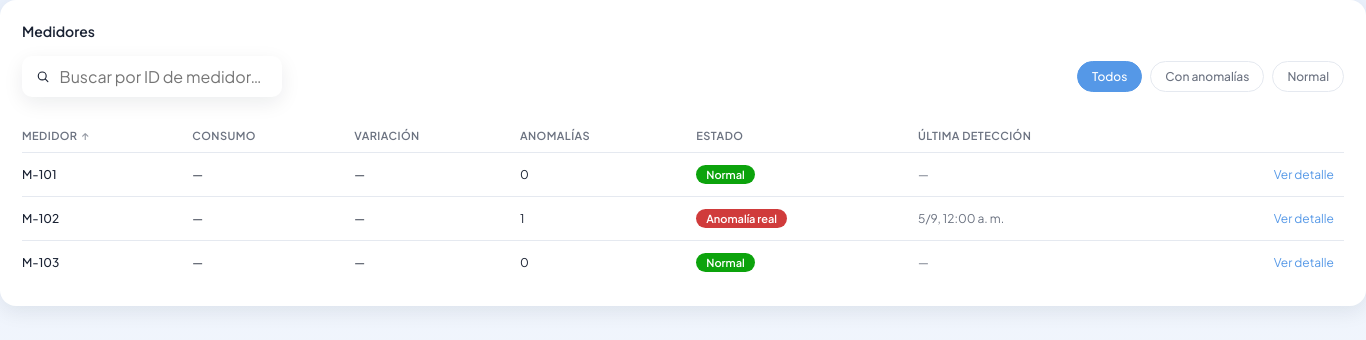
Test: MetersTable (desktop) › shows an empty state when nothing matches the search
Check: the text "M-101" is shown, box [22,152,192,196]
Type "ZZZ" into the field with placeholder "Buscar por ID de medidor…" at coordinates (163, 76), box [58,65,268,88]
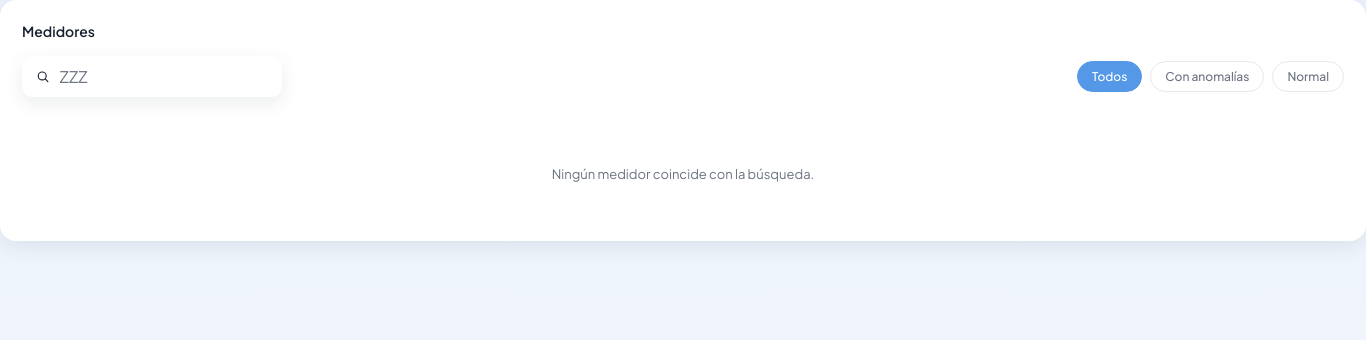
Check: the text "Ningún medidor coincide con la búsqueda." is shown, box [552,166,814,182]
